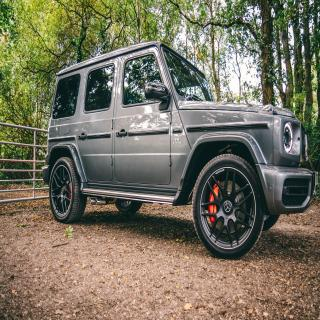Normal_vehicle: (44, 42, 316, 260)
